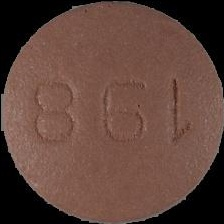43063-162: (0, 0, 224, 224)
